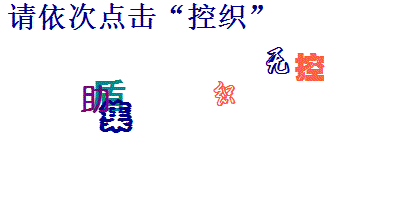result: (186, 1, 250, 31)
text: (98, 98, 135, 134), (94, 78, 125, 115), (294, 50, 327, 84), (263, 46, 293, 77), (81, 83, 110, 114), (210, 80, 238, 107)
